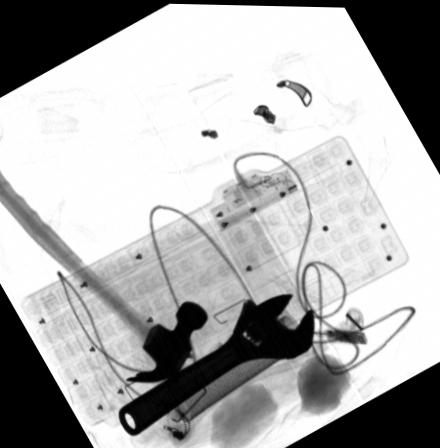Hammer: (0, 171, 208, 383)
Wrench: (116, 291, 314, 435)
